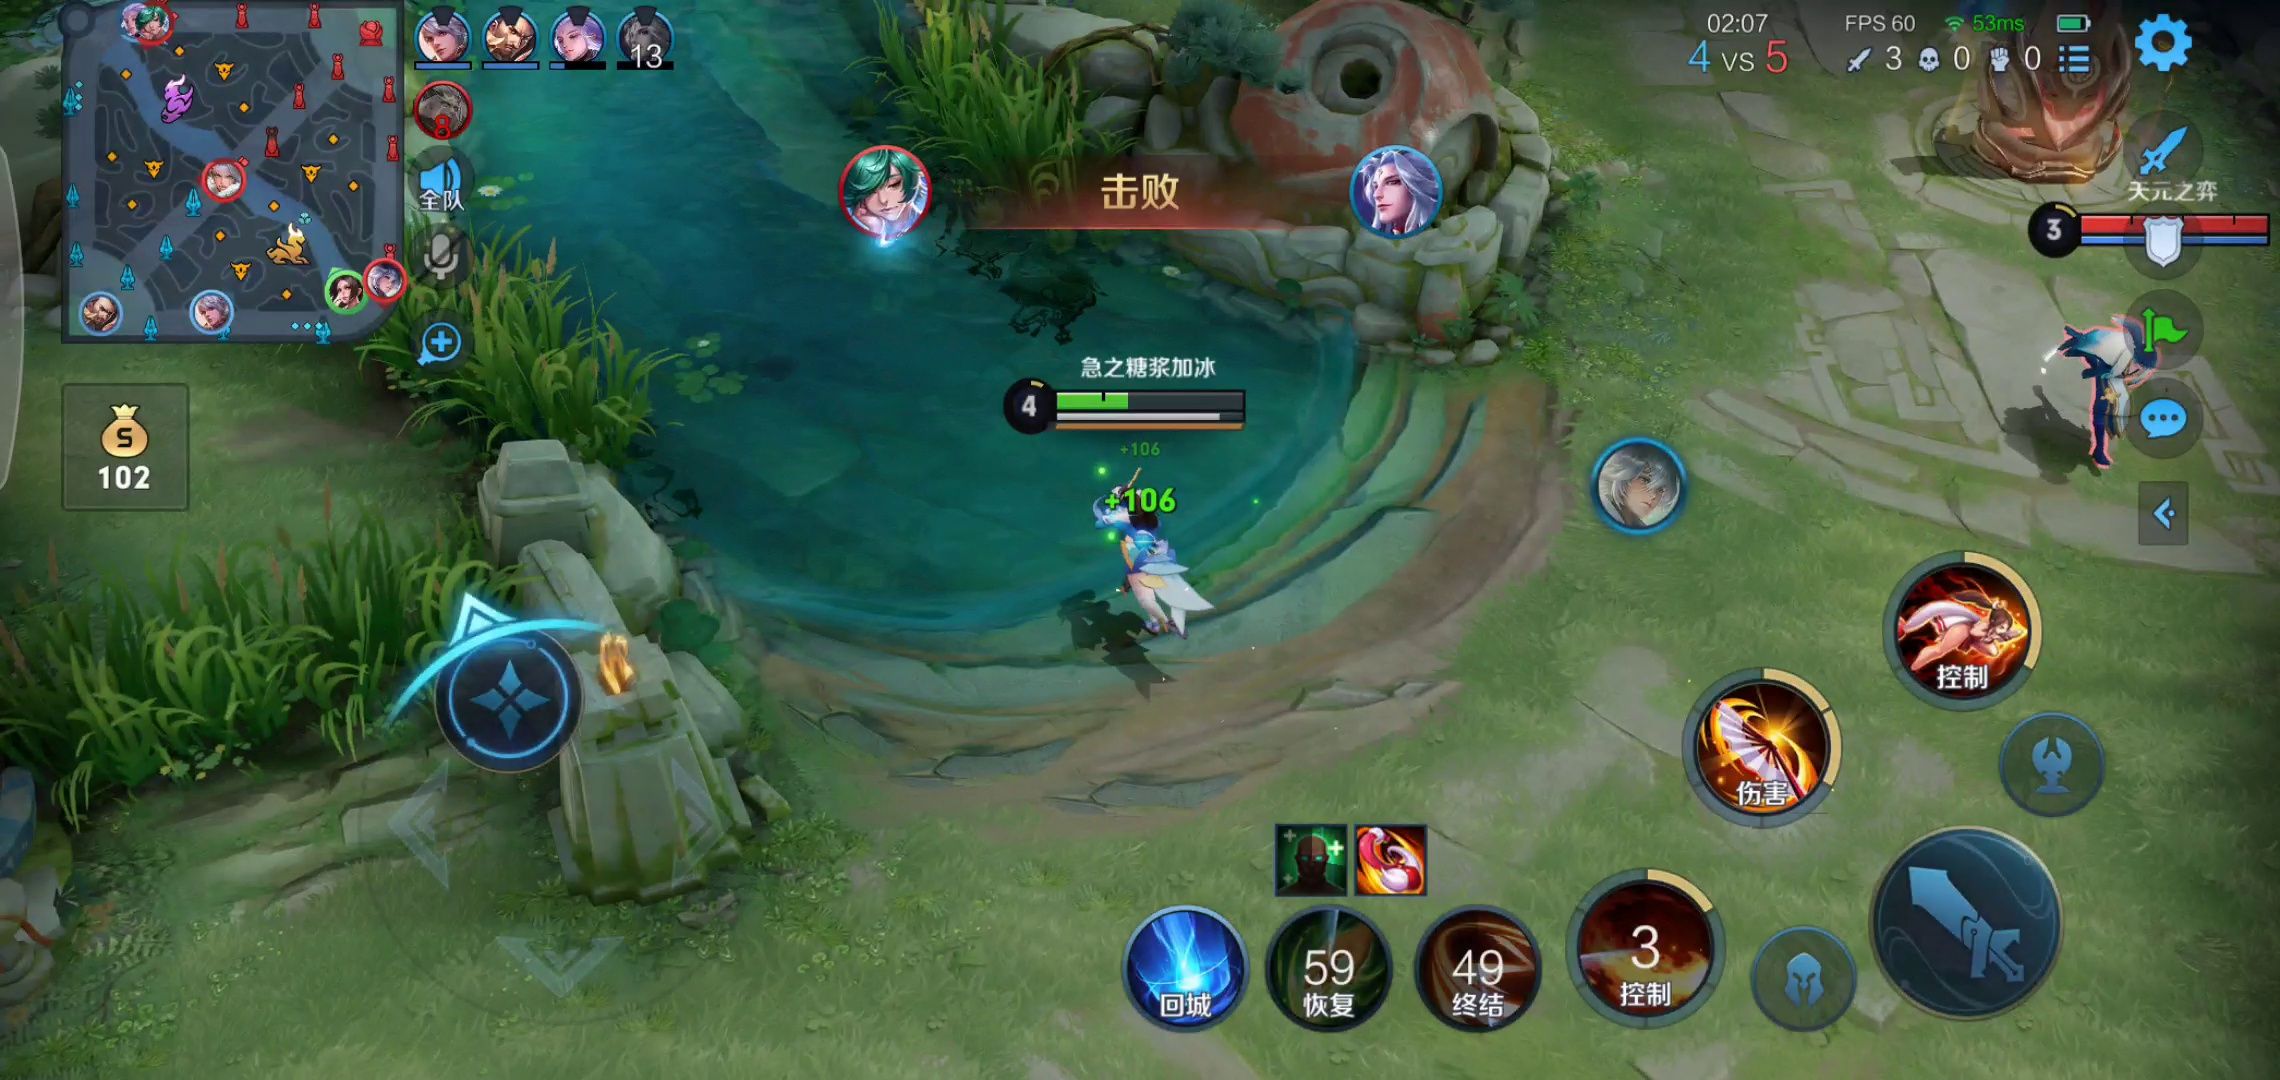grass: (1, 539, 602, 788), (323, 228, 678, 483), (865, 22, 1136, 260)
hero: (1044, 454, 1255, 650), (2030, 291, 2177, 472)
tower: (1935, 4, 2153, 198)
